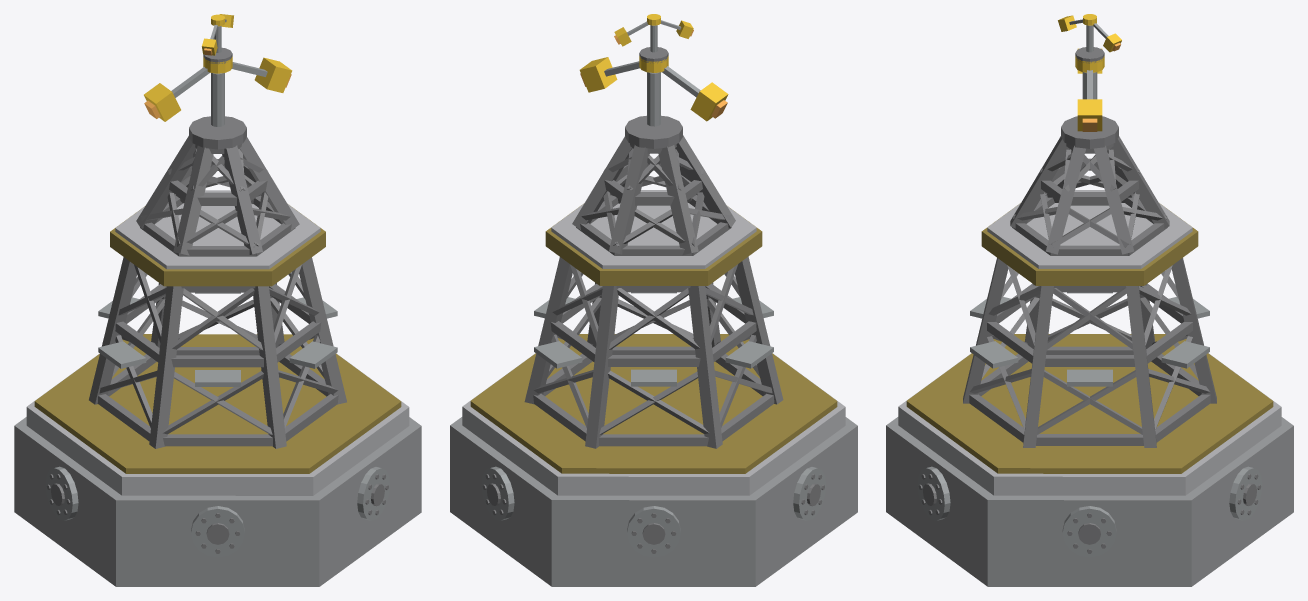
File: harvester_s3_100.glb
The picture shows the model from 3 angles, left to right: view 1: azimuth 30°, elevation 25°; view 2: azimuth 150°, elevation 25°; view 3: azimuth 270°, elevation 25°; orthographic projection.
Parts seen in each view (by area): view 1: H_Base, H_Trim, H_Capstone, T_MidRim, T_MidPlatform, T_Low_Post_3, T_Low_Post_4, T_Low_Post_2, T_Low_Post_5, T_Up_Post_3, H_FlangeSW_disc, T_Up_Post_4 (+25 smaller); view 2: H_Base, H_Trim, H_Capstone, T_MidRim, T_MidPlatform, T_Low_Post_2, T_Low_Post_1, T_Low_Post_3, T_Low_Post_0, T_Up_Post_2, H_FlangeNW_disc, T_Up_Post_1 (+25 smaller); view 3: H_Base, H_Trim, H_Capstone, T_MidRim, T_MidPlatform, T_Low_Post_5, T_Low_Post_0, H_FlangeE_disc, T_Low_Post_1, T_Low_Post_4, T_Up_Post_0, T_Up_Post_5 (+21 smaller).
Part boxes in pixels (left/top/right/bottom): H_Base: left=14, top=417, right=421, bottom=586; H_Trim: left=34, top=334, right=401, bottom=473; H_Capstone: left=26, top=353, right=409, bottom=495; T_MidRim: left=115, top=190, right=320, bottom=269; T_MidPlatform: left=110, top=206, right=325, bottom=286; T_Low_Post_3: left=149, top=286, right=183, bottom=448; T_Low_Post_4: left=253, top=286, right=286, bottom=448; T_Low_Post_2: left=89, top=257, right=136, bottom=404; T_Low_Post_5: left=299, top=257, right=346, bottom=404; T_Up_Post_3: left=173, top=145, right=213, bottom=255; H_FlangeSW_disc: left=191, top=506, right=244, bottom=557; T_Up_Post_4: left=222, top=145, right=262, bottom=254; H_Base: left=450, top=417, right=857, bottom=586; H_Trim: left=470, top=334, right=837, bottom=473; H_Capstone: left=462, top=353, right=845, bottom=495; T_MidRim: left=551, top=190, right=756, bottom=268; T_MidPlatform: left=545, top=205, right=762, bottom=285; T_Low_Post_2: left=688, top=286, right=722, bottom=448; T_Low_Post_1: left=585, top=286, right=618, bottom=448; T_Low_Post_3: left=735, top=256, right=783, bottom=404; T_Low_Post_0: left=524, top=257, right=572, bottom=404; T_Up_Post_2: left=658, top=145, right=698, bottom=255; H_FlangeNW_disc: left=627, top=506, right=680, bottom=557; T_Up_Post_1: left=609, top=145, right=649, bottom=254; H_Base: left=886, top=417, right=1293, bottom=586; H_Trim: left=906, top=334, right=1273, bottom=473; H_Capstone: left=898, top=353, right=1281, bottom=495; T_MidRim: left=987, top=190, right=1192, bottom=268; T_MidPlatform: left=981, top=204, right=1198, bottom=285; T_Low_Post_5: left=1023, top=286, right=1053, bottom=447; T_Low_Post_0: left=1126, top=286, right=1156, bottom=447; H_FlangeE_disc: left=1062, top=506, right=1116, bottom=557; T_Low_Post_1: left=1171, top=258, right=1216, bottom=403; T_Low_Post_4: left=963, top=258, right=1008, bottom=403; T_Up_Post_0: left=1094, top=145, right=1134, bottom=254; T_Up_Post_5: left=1045, top=145, right=1085, bottom=254.
Size of the model in its own units: 1.79 by 2.63 by 1.96.
